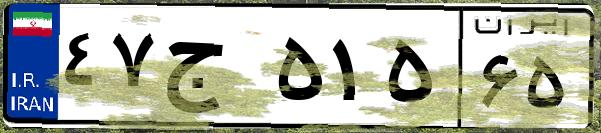1: (330, 28, 385, 110)
4: (57, 26, 110, 100)
5: (270, 28, 330, 110), (385, 28, 445, 110), (525, 38, 570, 115)
6: (475, 38, 525, 113)
7: (110, 28, 158, 98)
ج: (158, 20, 270, 120)
